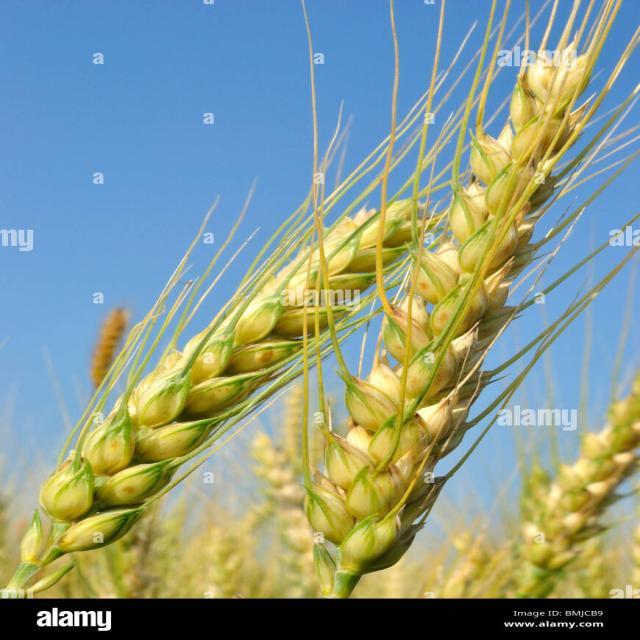Wheathead: (295, 24, 611, 596), (0, 200, 452, 592)
